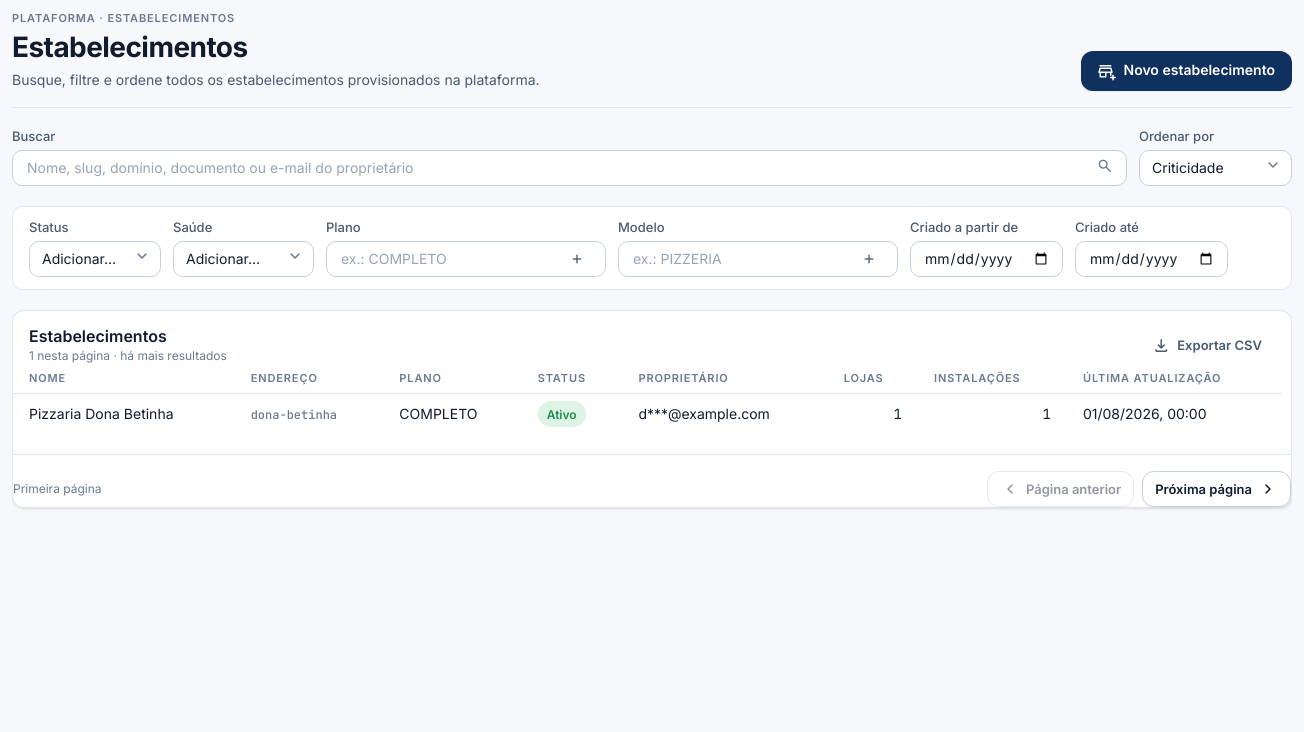
it: TenantsDirectoryPage › paginação por cursor: avançar busca a próxima página sem repetir nem omitir
Expected: the text "Pizzaria Dona Betinha" is shown, top-left (13, 394), bottom-right (235, 434)
Click the button "Próxima página".
click(1217, 489)  # box top-left (1142, 471), bottom-right (1291, 507)
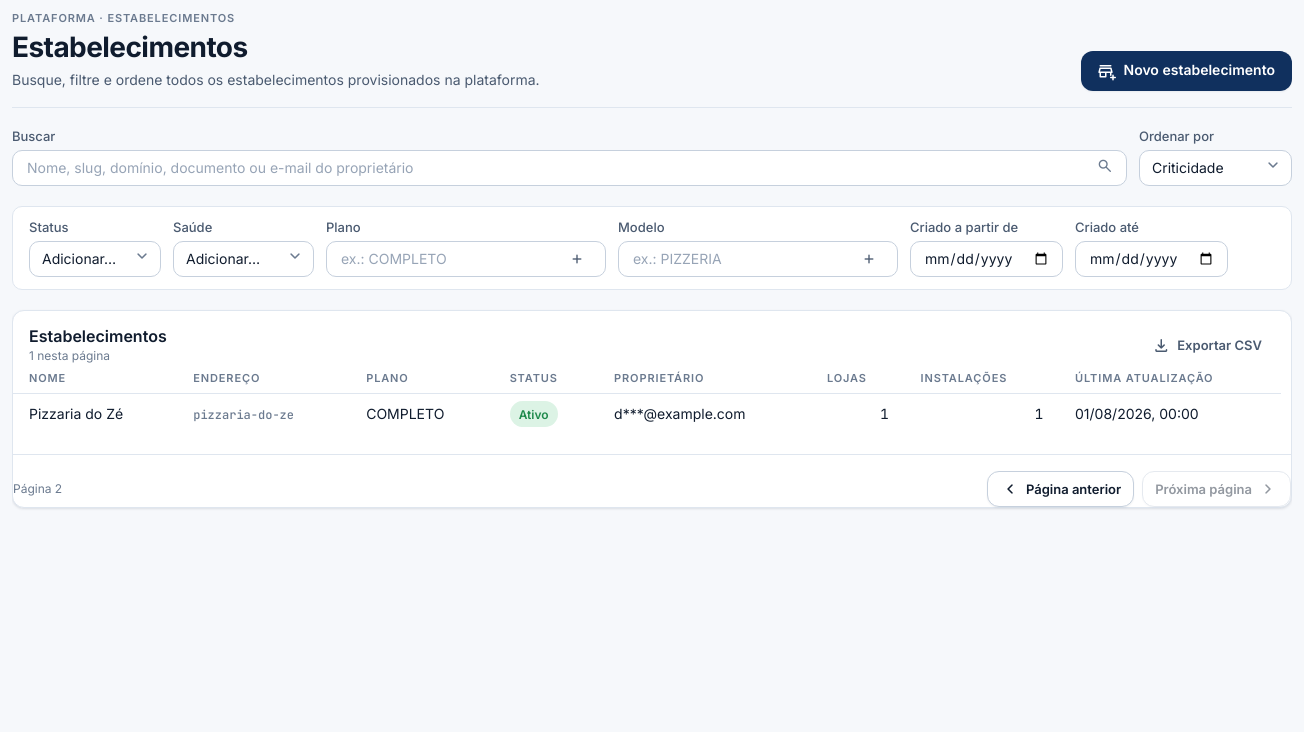
Now the text "Pizzaria do Zé" is shown, box top-left (13, 394), bottom-right (177, 434)
Now the text "Pizzaria Dona Betinha" is gone
Now the button "Próxima página" is disabled, box top-left (1142, 471), bottom-right (1291, 507)
